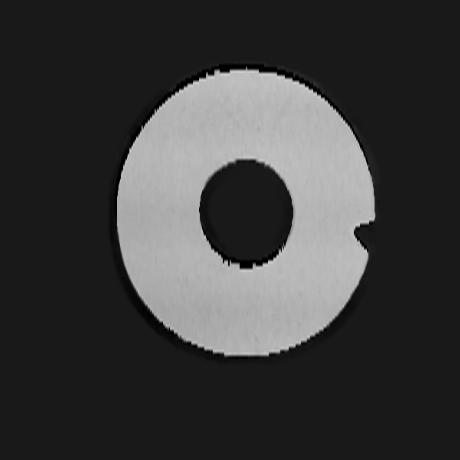defect: (354, 220, 376, 255)
